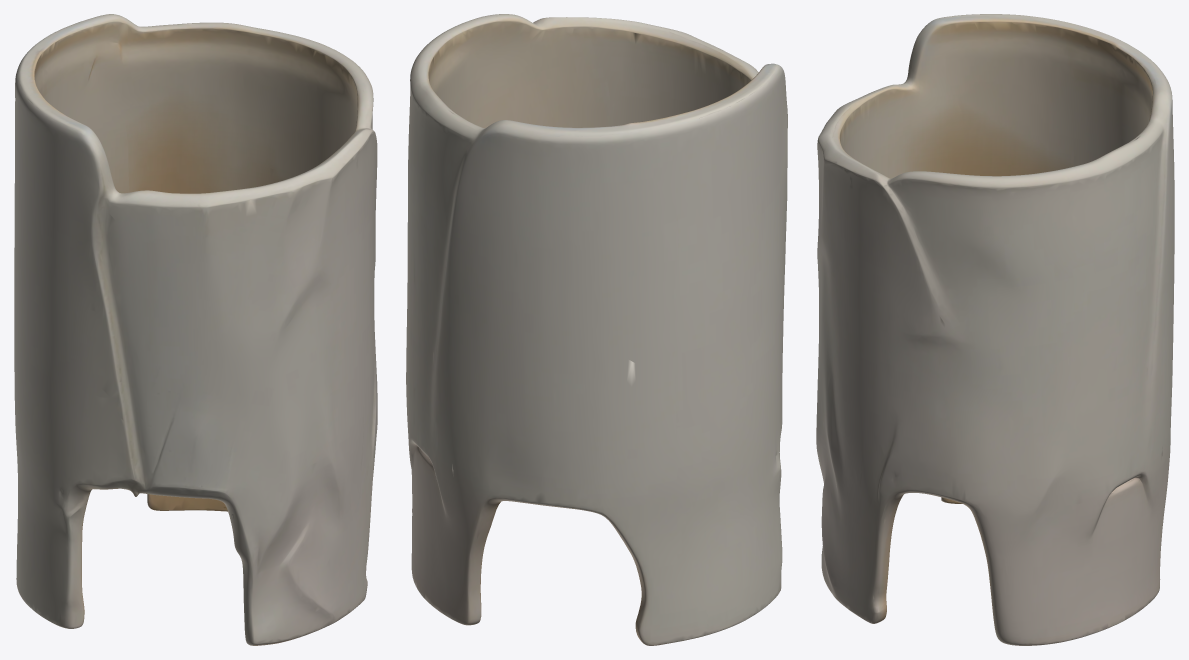
File: 0-white-sculptural-plaster-lamp-scaled-opt.glb
3 views of the same model, side by side, from view 1: azimuth 30°, elevation 25°; view 2: azimuth 150°, elevation 25°; view 3: azimuth 270°, elevation 25° (orthographic). The views are drawn at different scales.
Parts seen in each view (by area): view 1: material; view 2: material; view 3: material.
Part boxes in pixels (x1,y1,x2,y2): material: [14, 14, 377, 645]; material: [406, 14, 787, 645]; material: [816, 14, 1174, 645].
Size of the model in its own units: 0.3595 by 0.5434 by 0.36.
1 material, 1 textured.
